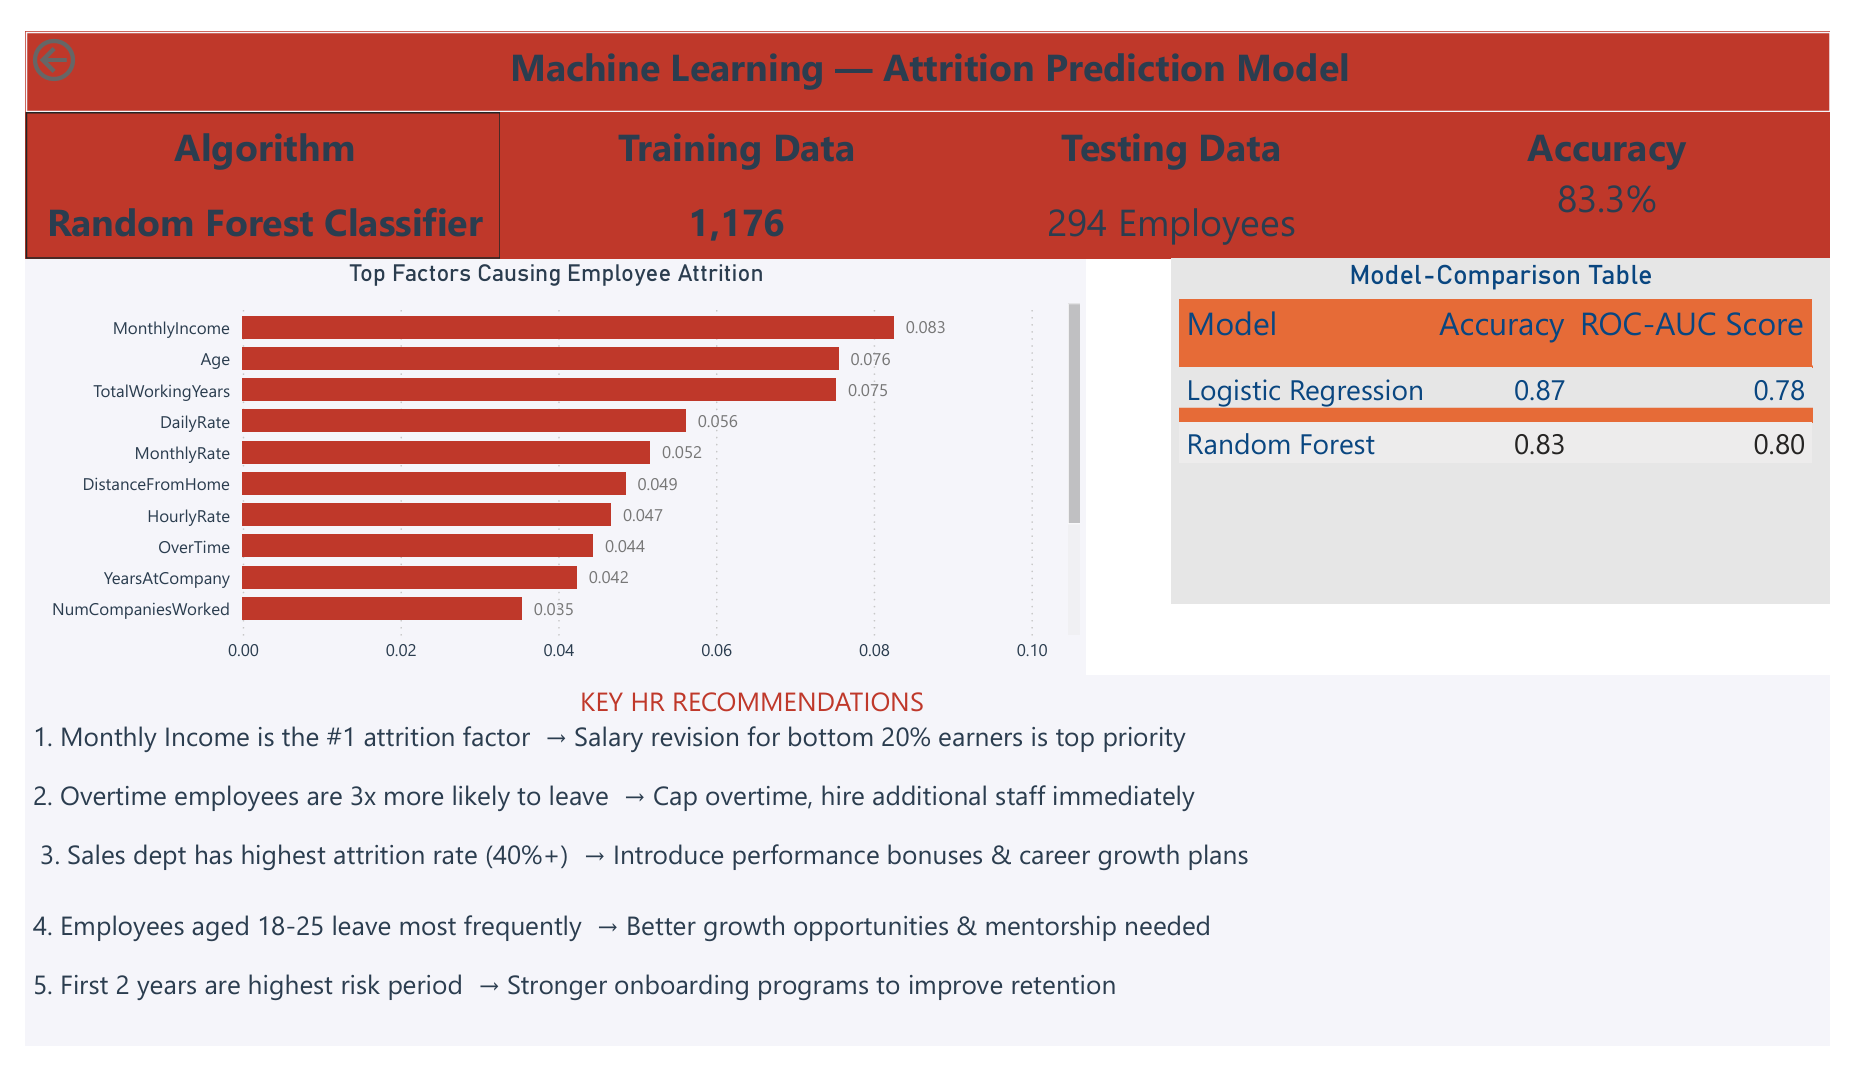

Layout of this report page (visuals, bound fields, positions):
{"tool":"powerbi","page":{"name":"ML Insights","canvas":[1280,720],"ordinal":2},"visuals":[{"type":"textbox","box":[0,0,1280.7,56.9],"z":0},{"type":"barChart","title":"Top Factors Causing Employee Attrition","fields":{"Category":["feature_importance.Feature"],"Y":["Sum(feature_importance.Importance_Score)"]},"box":[0,160.9,752.5,295.8],"z":1000},{"type":"textbox","box":[0,56.8,337,104.1],"z":2000},{"type":"textbox","box":[954.3,56.8,333.3,104.1],"z":3000},{"type":"textbox","box":[337,56.8,333.3,104.1],"z":4000},{"type":"textbox","box":[670.3,56.8,284,104.1],"z":5000},{"type":"textbox","box":[0,456.7,1280.7,263.3],"z":6000},{"type":"actionButton","box":[0,0,100,40],"z":7000},{"type":"tableEx","title":"Model-Comparison Table","fields":{"Values":["Model_Comparison.Model","Model_Comparison.Accuracy","Model_Comparison.ROC-AUC Score"]},"box":[812.6,160.9,468.1,245.4],"z":7001}]}

Visuals, with their boxes in screenshot pixels (x1, y1, x2, y2), scaled from the page's 1280x720 canvas onto the 1869x1081 screenshot:
textbox: {"x1": 0, "y1": 0, "x2": 1868, "y2": 85}
"Top Factors Causing Employee Attrition" barChart: {"x1": 0, "y1": 242, "x2": 1099, "y2": 686}
textbox: {"x1": 0, "y1": 85, "x2": 492, "y2": 242}
textbox: {"x1": 1393, "y1": 85, "x2": 1868, "y2": 242}
textbox: {"x1": 492, "y1": 85, "x2": 979, "y2": 242}
textbox: {"x1": 979, "y1": 85, "x2": 1393, "y2": 242}
textbox: {"x1": 0, "y1": 686, "x2": 1868, "y2": 1080}
actionButton: {"x1": 0, "y1": 0, "x2": 146, "y2": 60}
"Model-Comparison Table" tableEx: {"x1": 1187, "y1": 242, "x2": 1868, "y2": 610}
